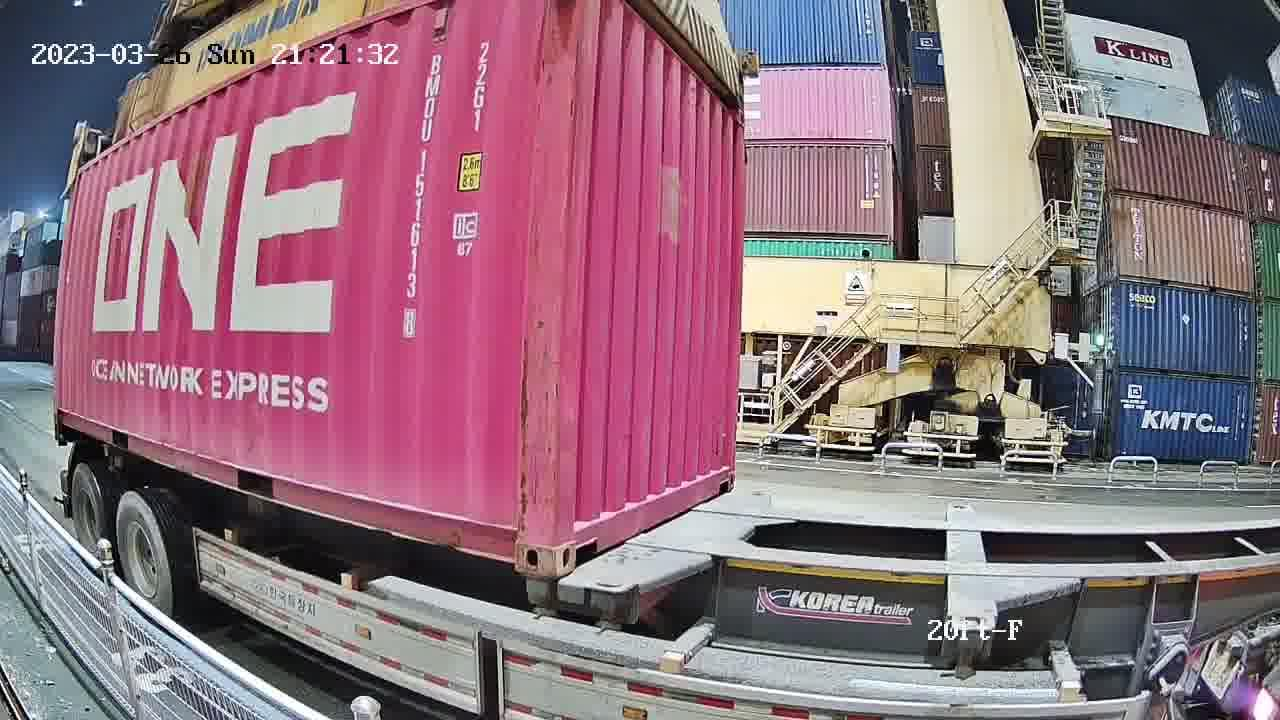Chassis: (593, 494, 770, 589)
Cone: (593, 576, 634, 636), (522, 574, 551, 620)
Hole_L: (554, 491, 603, 578)
Hole_R: (483, 497, 553, 579), (714, 452, 736, 495)
Tire: (117, 493, 172, 625), (70, 466, 110, 562)
